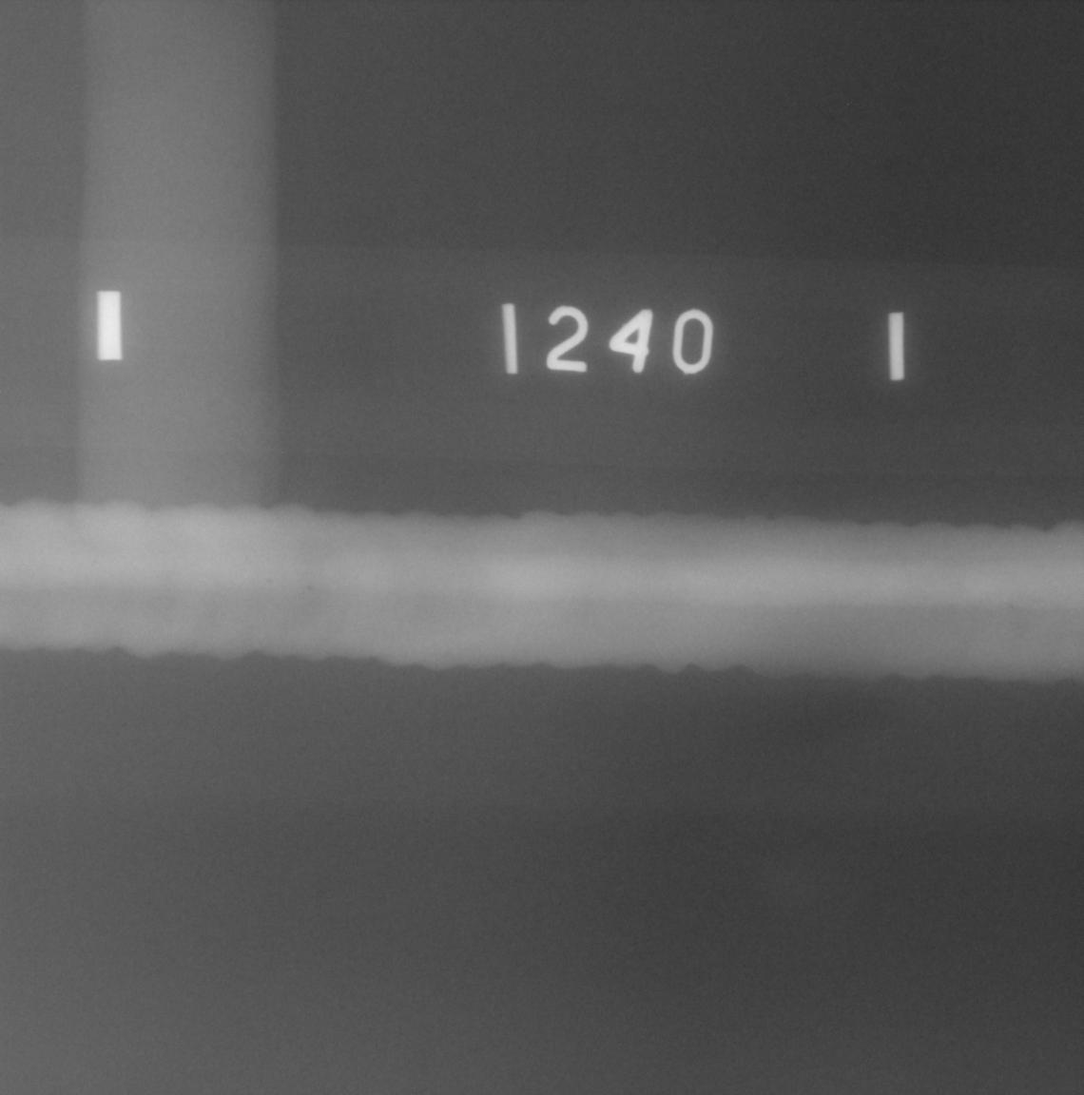Pore/Porosity: (1033, 599, 1045, 604), (307, 585, 313, 591), (267, 579, 272, 584)
